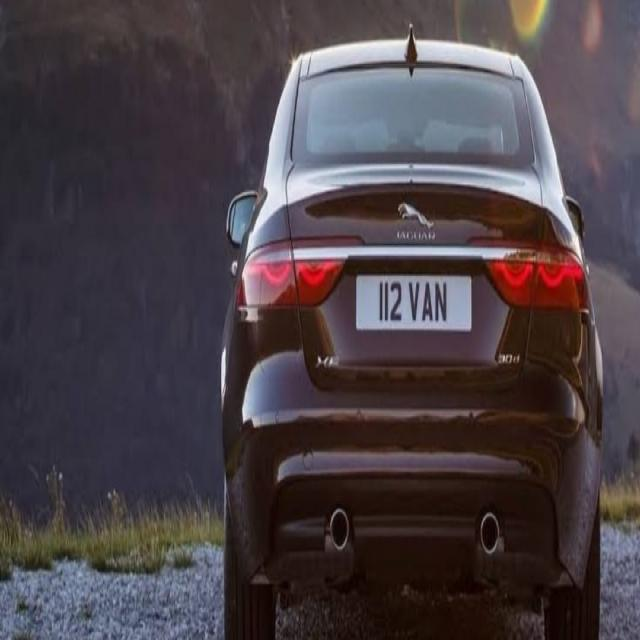Number-Plate: (360, 271, 456, 329)
